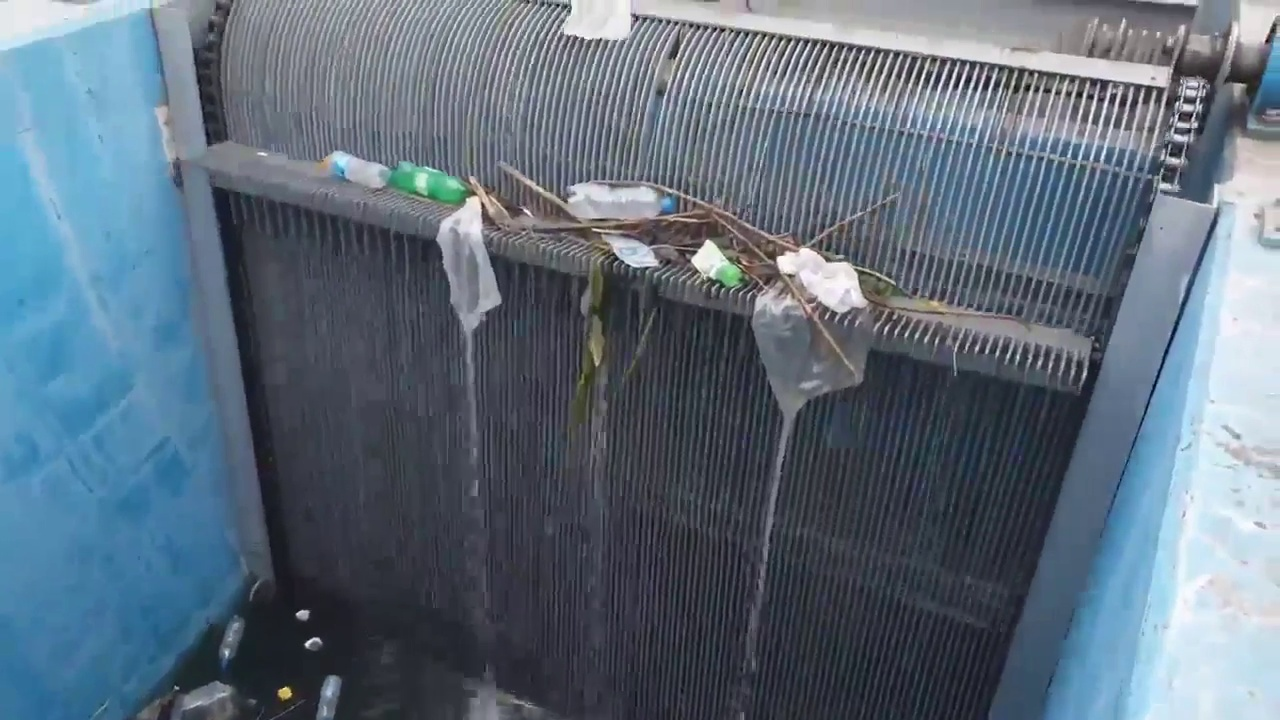debris: (471, 163, 1060, 339), (324, 152, 470, 204), (133, 681, 255, 719), (219, 616, 243, 670), (315, 676, 341, 719)
